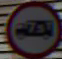Heavy Vehicles: (5, 2, 59, 52)
